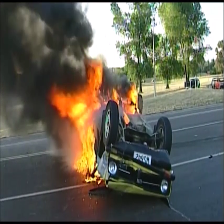fire_h: (50, 55, 107, 175), (121, 83, 140, 114)
fire_l: (85, 169, 102, 184), (105, 88, 119, 104), (123, 112, 131, 125)
